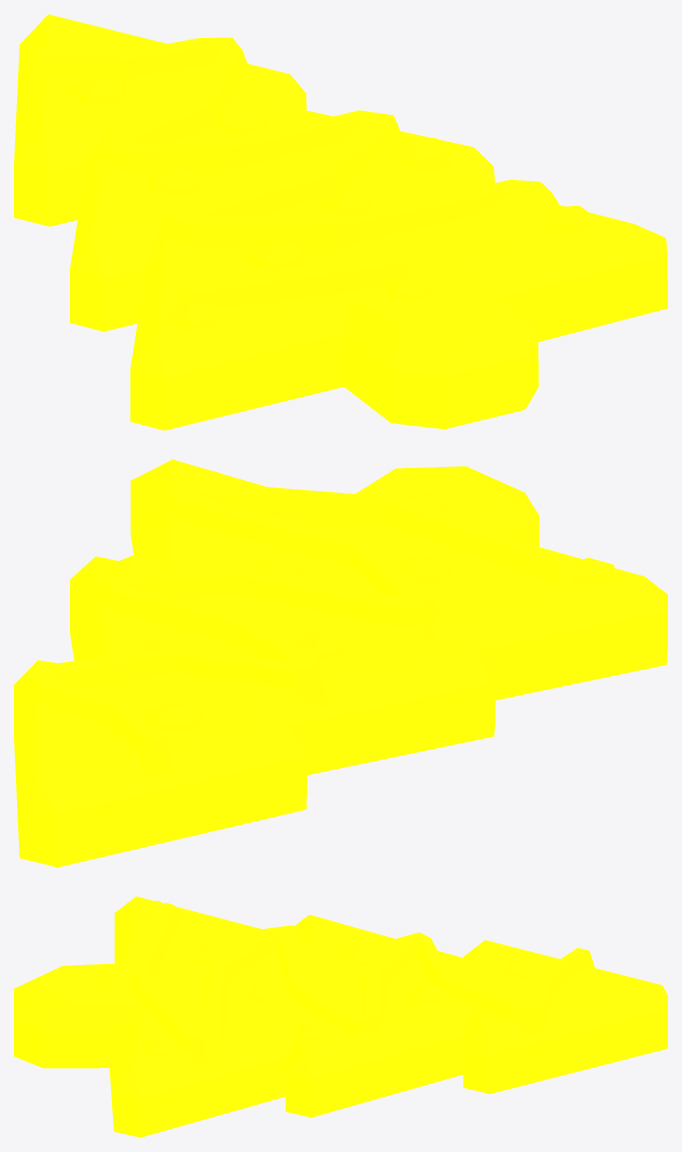
File: gingerbread-tree.glb
3 renders of one model, top to bottom at view 1: azimuth 30°, elevation 25°; view 2: azimuth 150°, elevation 25°; view 3: azimuth 270°, elevation 25°, orthographic. The views are drawn at different scales.
Parts seen in each view (by area): view 1: gingerbread_tree; view 2: gingerbread_tree; view 3: gingerbread_tree.
Boxes of the visible parts, x1,y1,x2,y2 form: gingerbread_tree: (14,14,667,430); gingerbread_tree: (14,459,667,867); gingerbread_tree: (14,896,667,1137).
Size of the model in its own units: 0.0691 by 0.0119 by 0.0997.
1 material, 1 textured.
